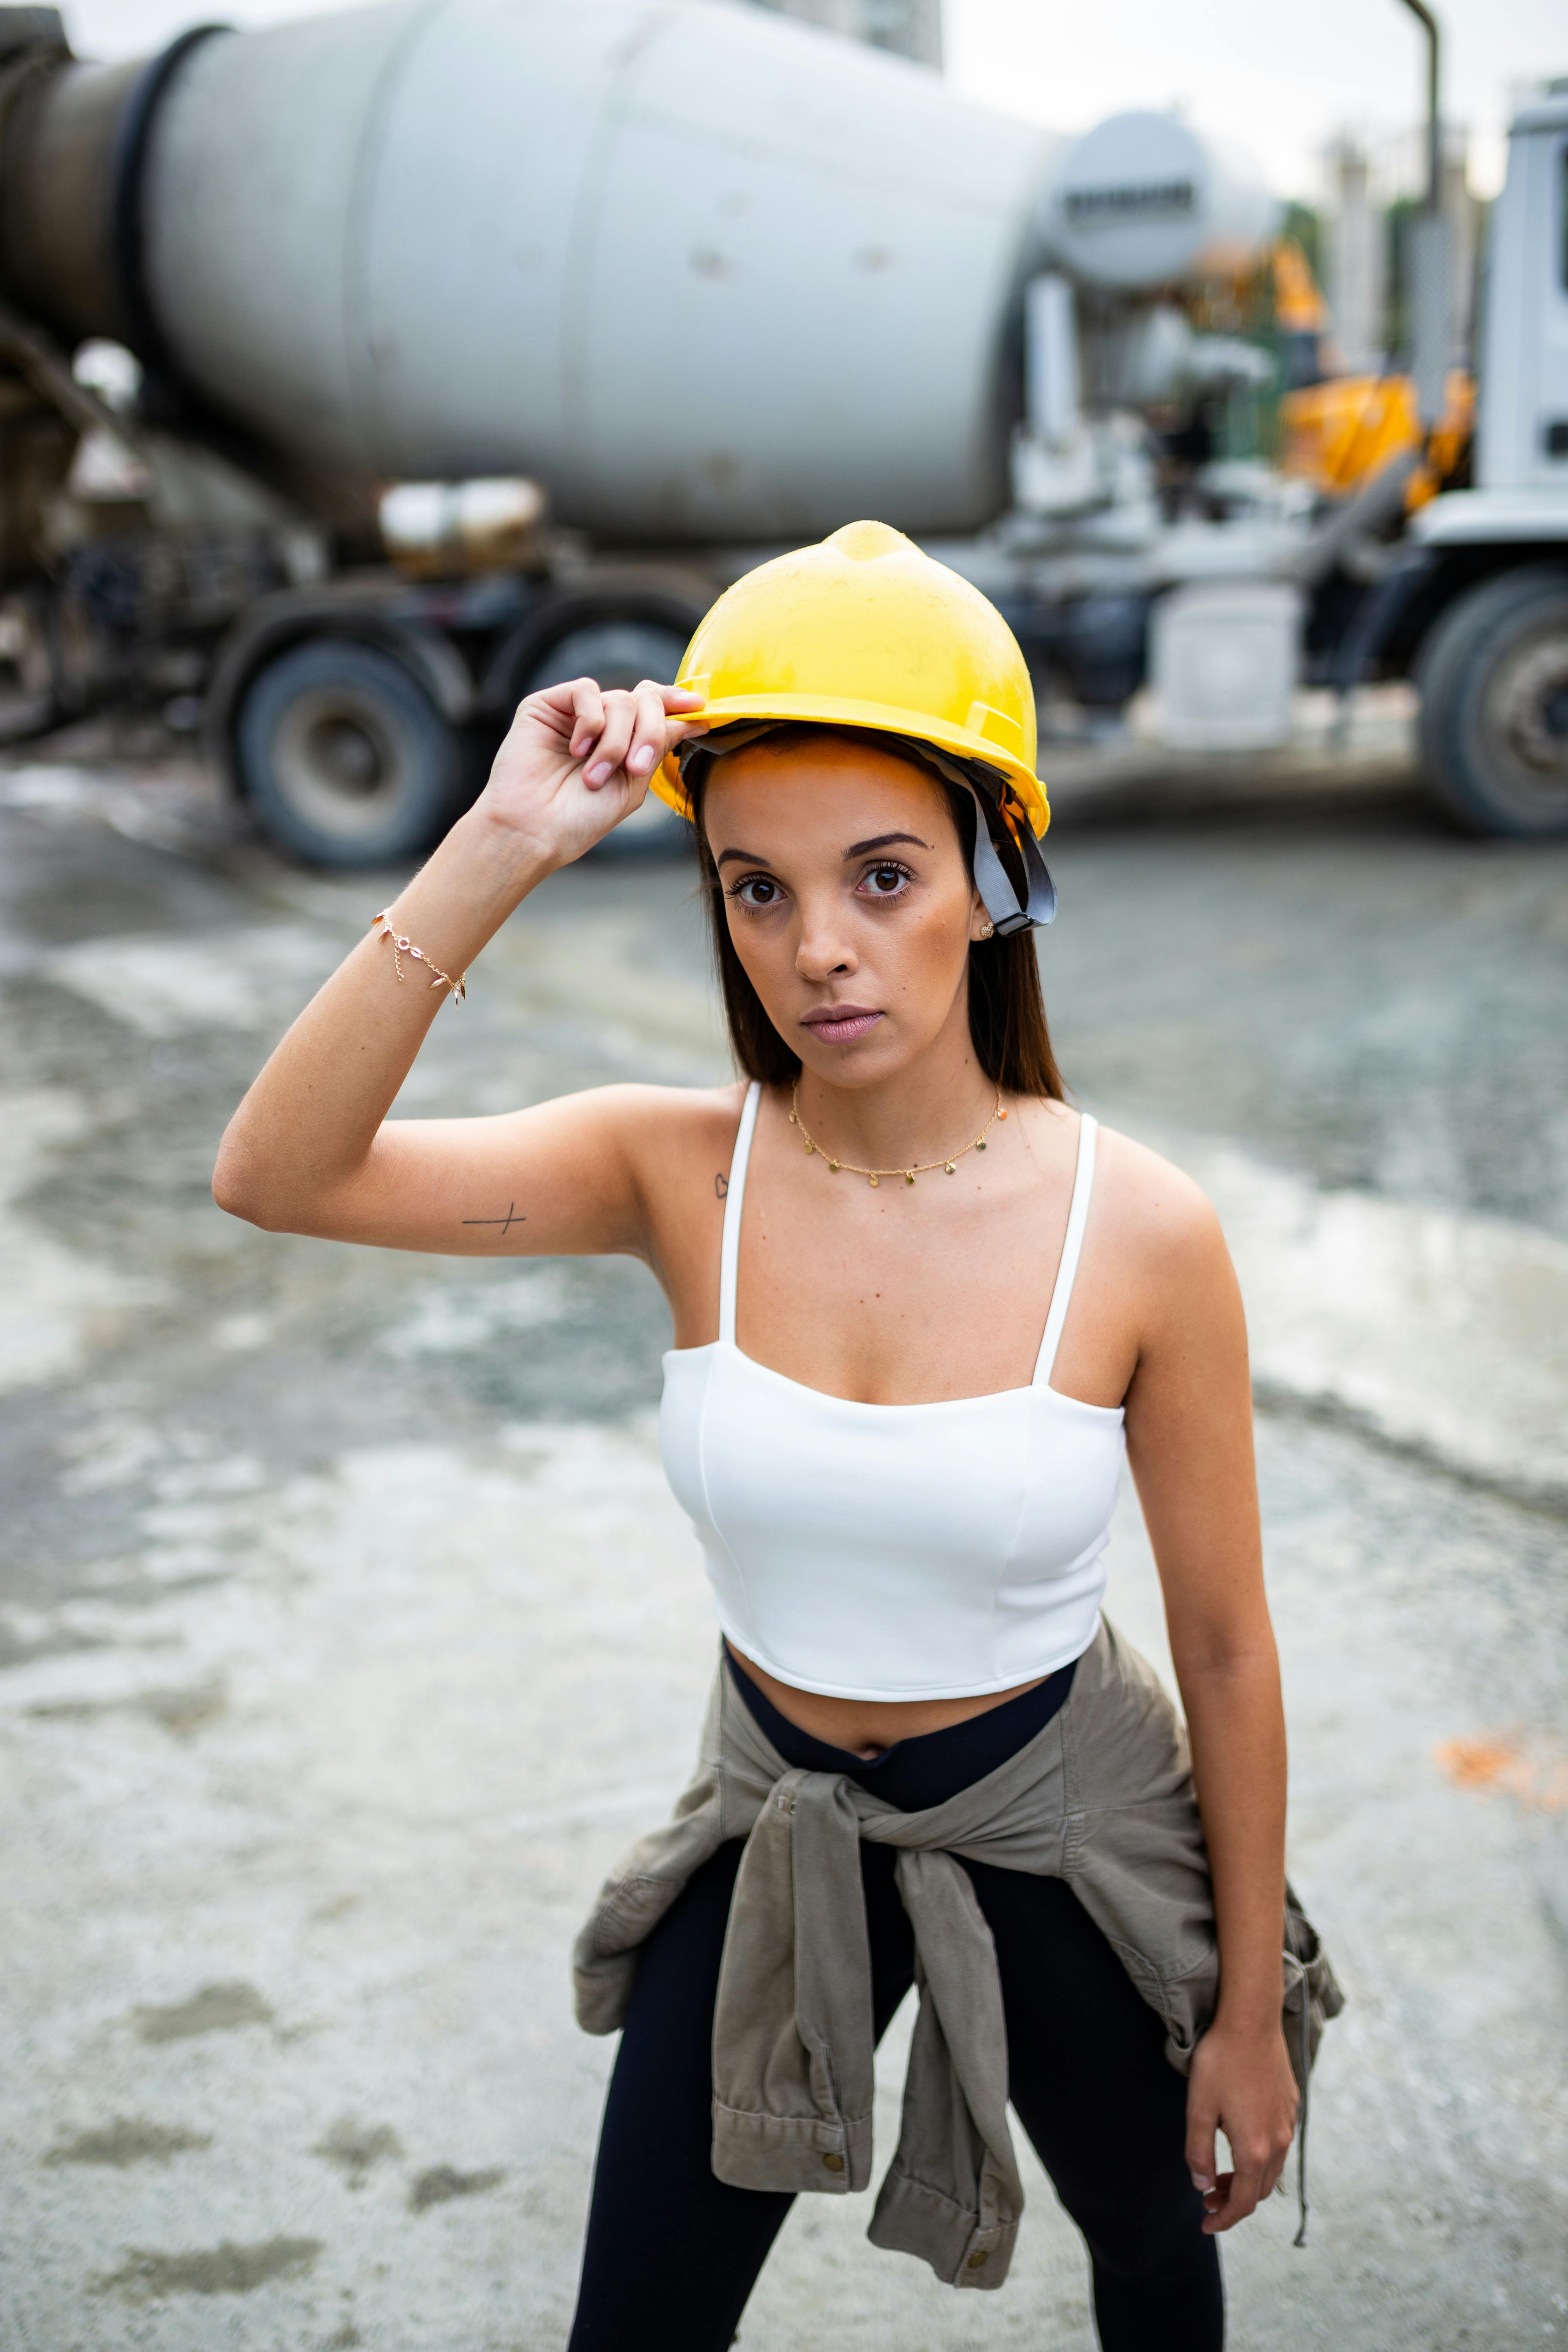capacete: (633, 514, 1055, 850)
